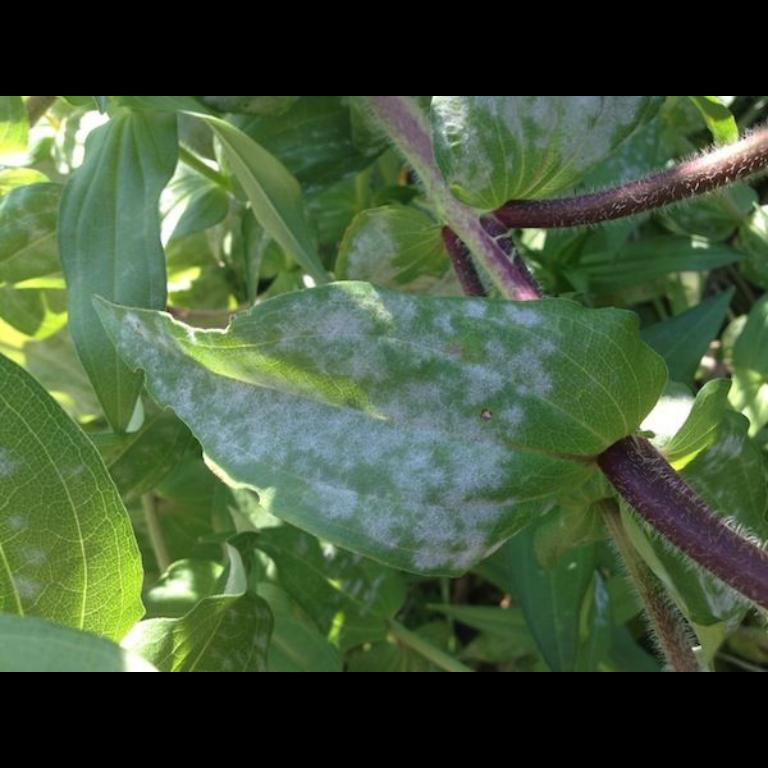powdery-mildew: (286, 311, 512, 508)
